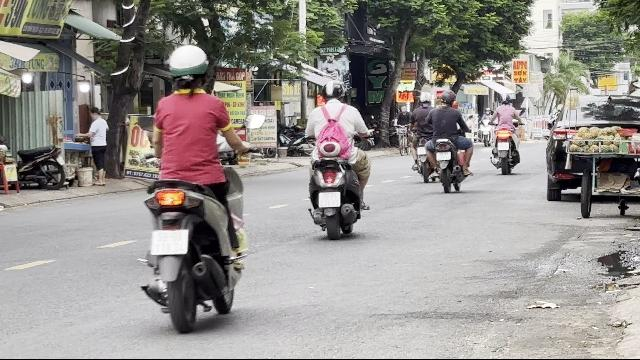helmet: (164, 44, 212, 92), (322, 80, 344, 103)
licenseplate: (152, 230, 188, 255), (319, 192, 341, 208)
motorcyclist: (138, 44, 252, 330), (302, 78, 372, 238)
